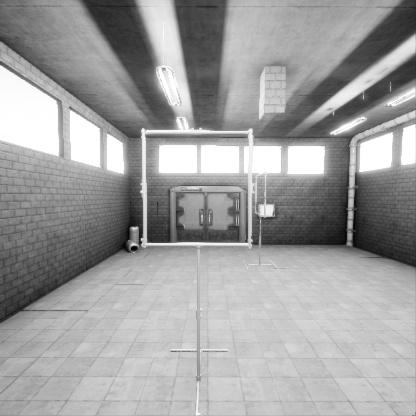gate: (149, 176, 260, 286), (255, 201, 266, 246)
